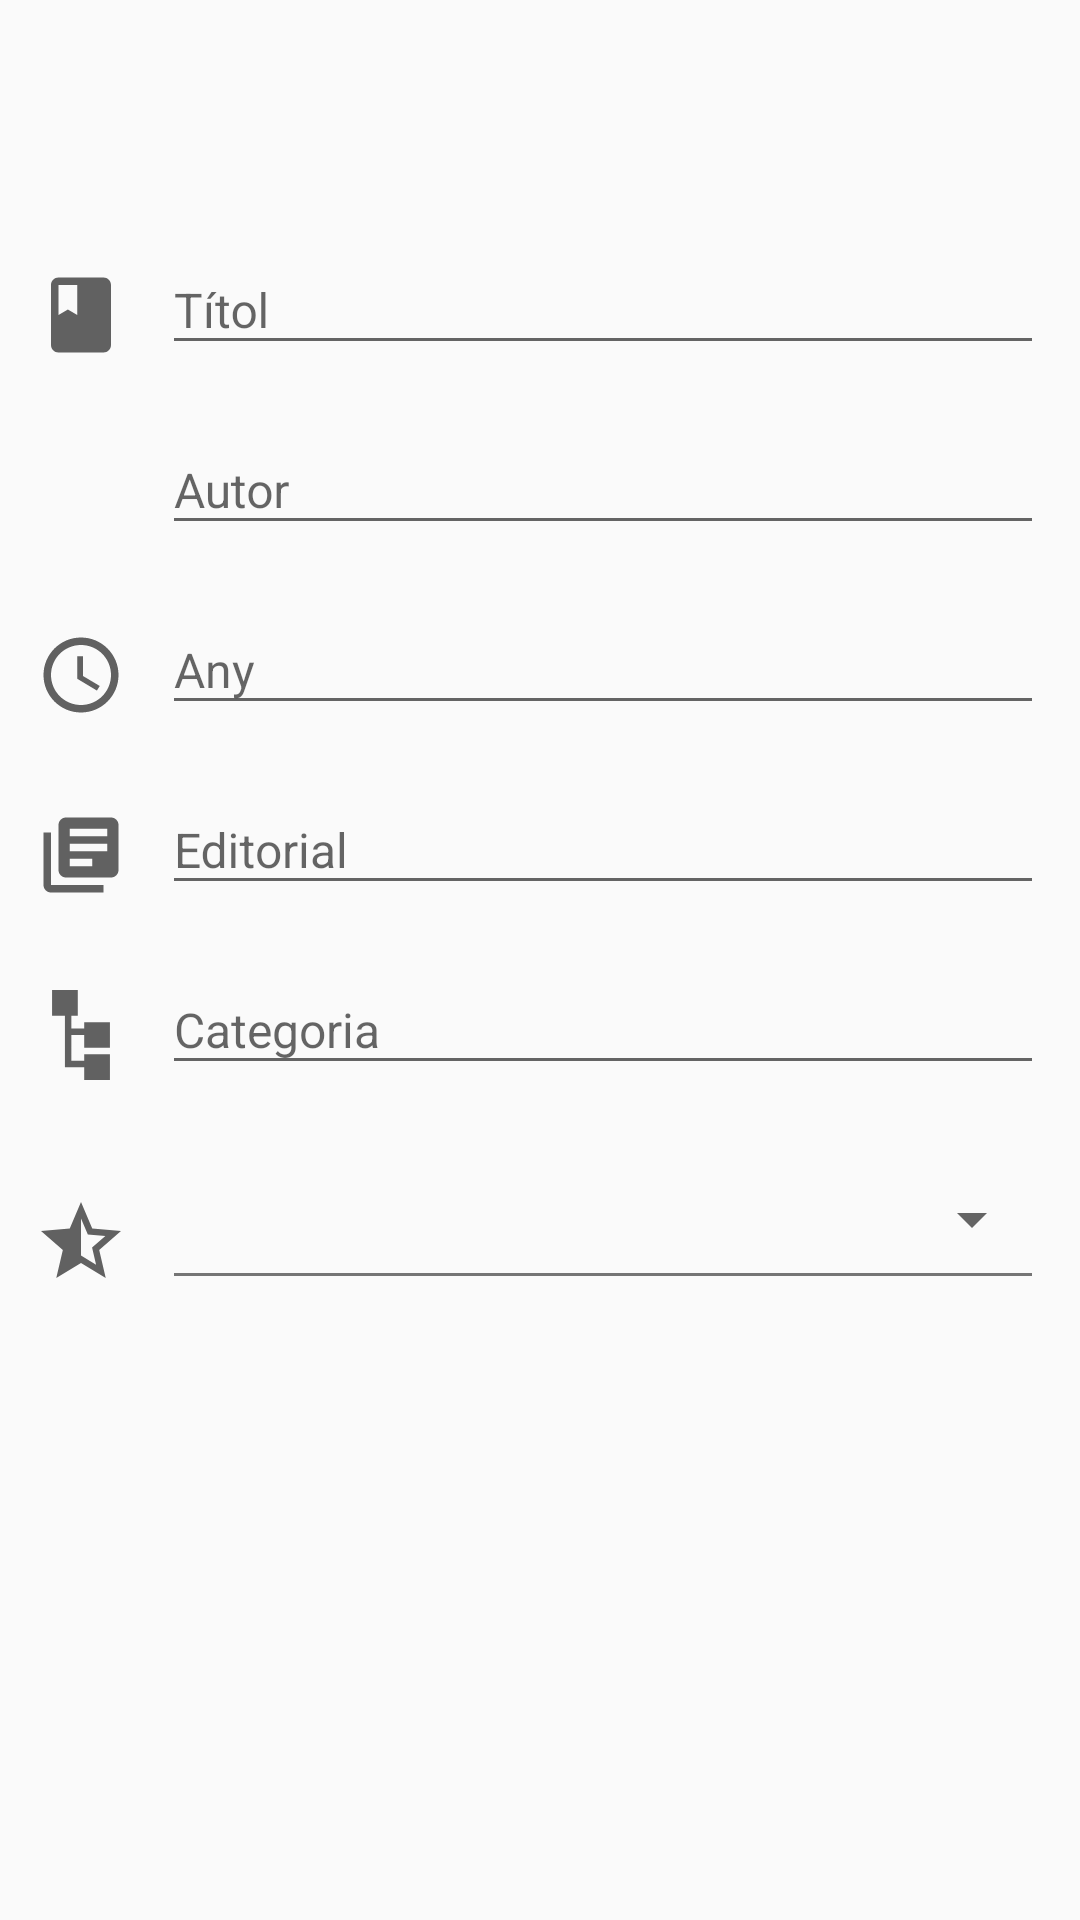

Icon bounding boxes for this 1080x1920 phone screenshot, format [left=x1, top=y1, right=x2, bottom=y2]:
clock: [left=43, top=637, right=119, bottom=713]
publisher: [left=43, top=817, right=119, bottom=893]
Valoració personal: [left=41, top=1202, right=121, bottom=1278]
